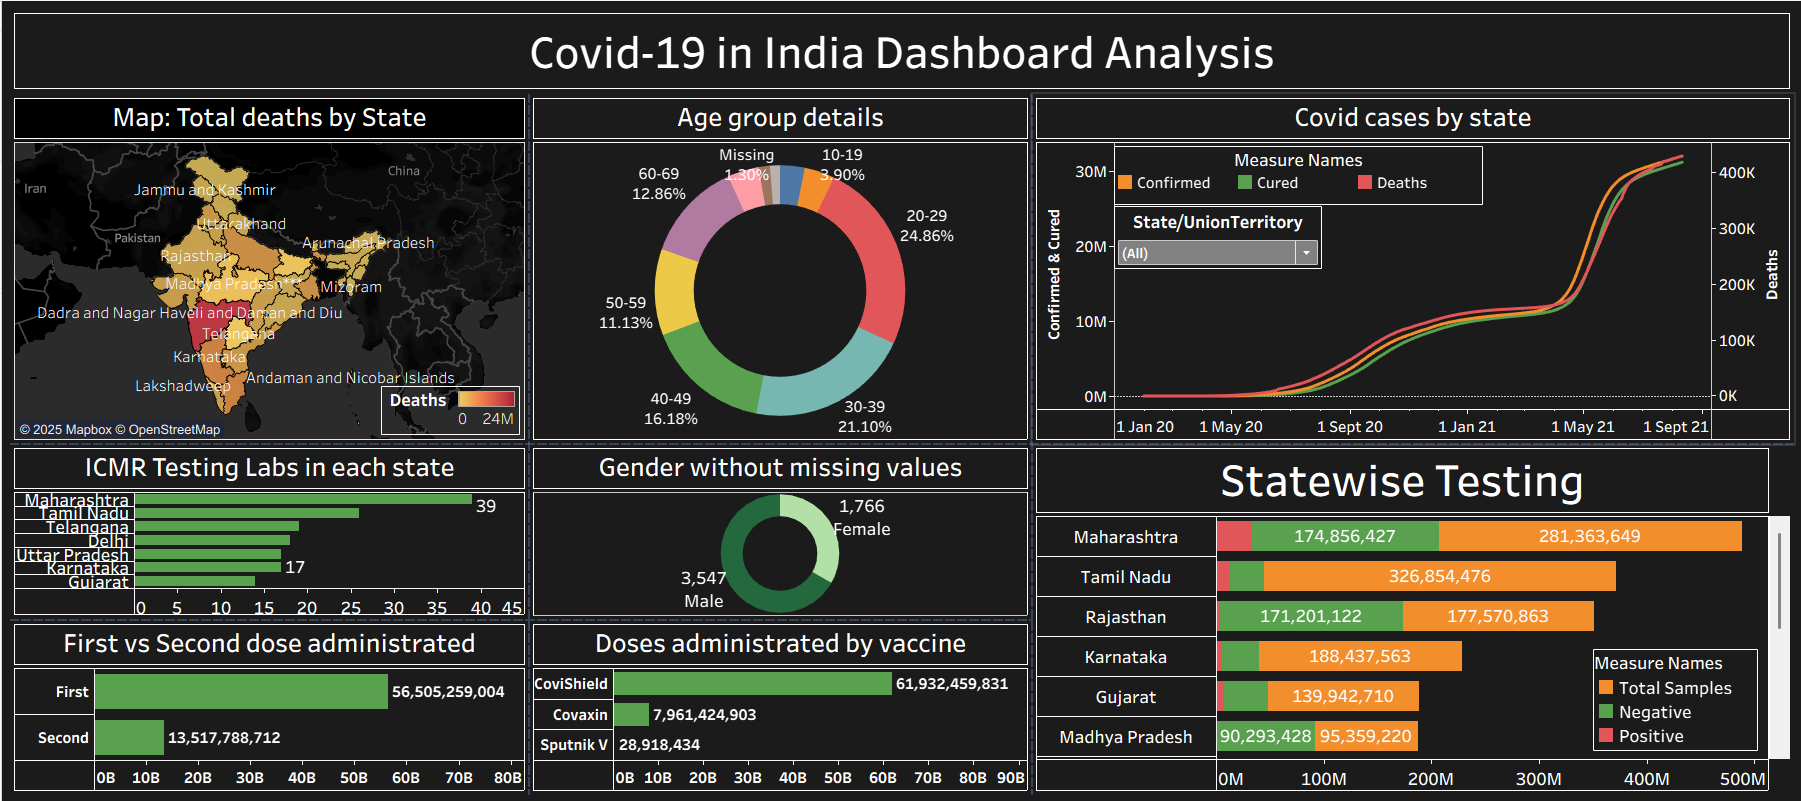

What the dashboard file says about the page in this screenshot:
{"tool":"tableau","page":{"name":"Dashboard 1","canvas":[1000,1000],"units":"permille","ordinal":0},"visuals":[{"type":"worksheet","title":"Title","mark":"Automatic","box":[4.4,10,991.1,105.9]},{"type":"worksheet","title":"Map: Total deaths by State","mark":"Multipolygon","box":[4.4,115.9,288.2,437]},{"type":"worksheet","title":"Age group details","mark":"Pie","rows":["Calculation_1466484680256421889","Calculation_1466484680256421889"],"box":[292.7,115.9,279.4,436.4]},{"type":"worksheet","title":"Covid cases by state","mark":"Automatic","rows":["Deaths"],"cols":["Date"],"box":[572.1,115.9,423.4,436.5]},{"type":"legend","title":"Covid cases by state","param":"[federated.0wsfn2c10rilnh1fx75ls1vta14x].[:Measure Names]","box":[624.4,205.7,205,73.6]},{"type":"filter","title":"Covid cases by state","param":"[federated.0wsfn2c10rilnh1fx75ls1vta14x].[none:State/UnionTerritory:nk]","box":[623.9,286.8,115.6,78.5]},{"type":"legend","title":"Map: Total deaths by State","param":"[federated.0wsfn2c10rilnh1fx75ls1vta14x].[sum:Deaths:qk]","box":[205,468.2,77.9,71.2]},{"type":"worksheet","title":"Gender without missing values","mark":"Pie","rows":["Calculation_1466484680270344197","Calculation_1466484680270344197"],"box":[292.7,552.3,279.4,219.1]},{"type":"worksheet","title":"Statewise Testing","mark":"Automatic","rows":["State"],"box":[572.1,552.4,423.4,437.7]},{"type":"worksheet","title":"ICMR Testing Labs in each state","mark":"Automatic","rows":["state"],"cols":["lab"],"box":[4.4,552.9,288.2,218.5]},{"type":"worksheet","title":"First vs Second dose administrated","mark":"Automatic","box":[4.4,771.4,288.2,218.6]},{"type":"worksheet","title":"Doses administrated by vaccine","mark":"Automatic","box":[292.7,771.4,279.4,218.6]},{"type":"legend","title":"Statewise Testing","param":"[federated.00gak5t13sasdj1ftaj1t1vm80zk].[:Measure Names]","box":[884,807.7,91.4,127.3]}]}

Visuals, with their boxes on the dashboard's canvas, which has no fixed pixel size, in thousandths of its width and height (x1, y1, x2, y2). These are canvas units, not pixel positions in the 1801x801 screenshot, which may show the page scaled, cropped or inside an application window:
"Title" worksheet: (4, 10, 996, 116)
"Map: Total deaths by State" worksheet (Multipolygon marks): (4, 116, 293, 553)
"Age group details" worksheet (Pie marks): (293, 116, 572, 552)
"Covid cases by state" worksheet: (572, 116, 996, 552)
"Covid cases by state" legend: (624, 206, 829, 279)
"Covid cases by state" filter: (624, 287, 740, 365)
"Map: Total deaths by State" legend: (205, 468, 283, 539)
"Gender without missing values" worksheet (Pie marks): (293, 552, 572, 771)
"Statewise Testing" worksheet: (572, 552, 996, 990)
"ICMR Testing Labs in each state" worksheet: (4, 553, 293, 771)
"First vs Second dose administrated" worksheet: (4, 771, 293, 990)
"Doses administrated by vaccine" worksheet: (293, 771, 572, 990)
"Statewise Testing" legend: (884, 808, 975, 935)
